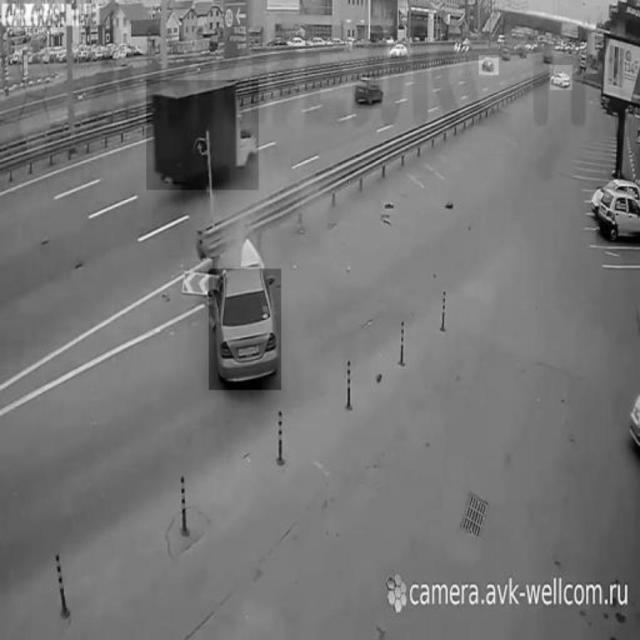vehicle: (146, 81, 258, 191), (210, 269, 282, 390), (596, 187, 640, 244), (353, 75, 383, 109), (550, 65, 572, 90), (387, 39, 411, 56), (479, 55, 499, 75)
